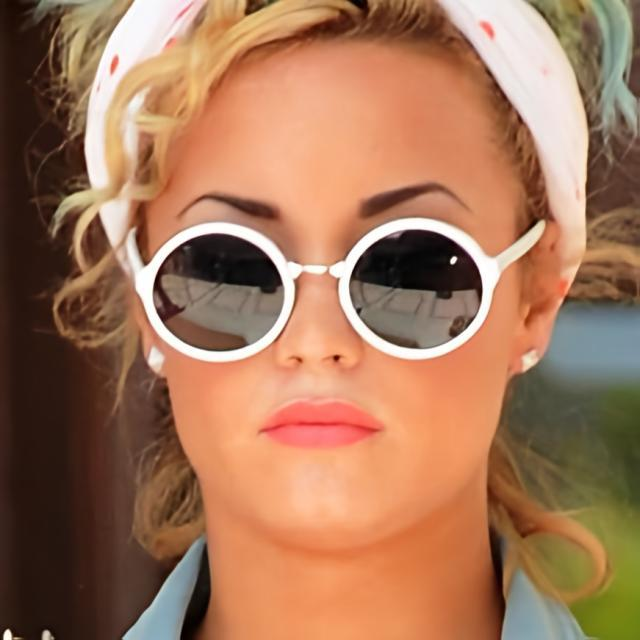neutral: (140, 46, 518, 560)
